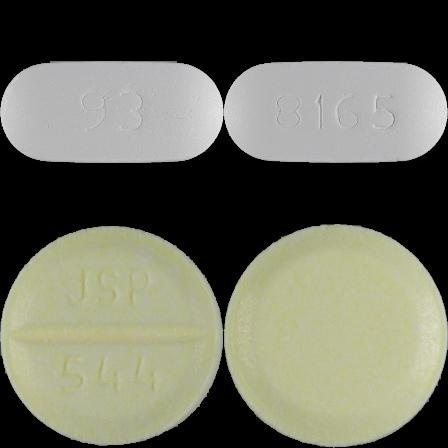0615-7728: (0, 0, 224, 224)
